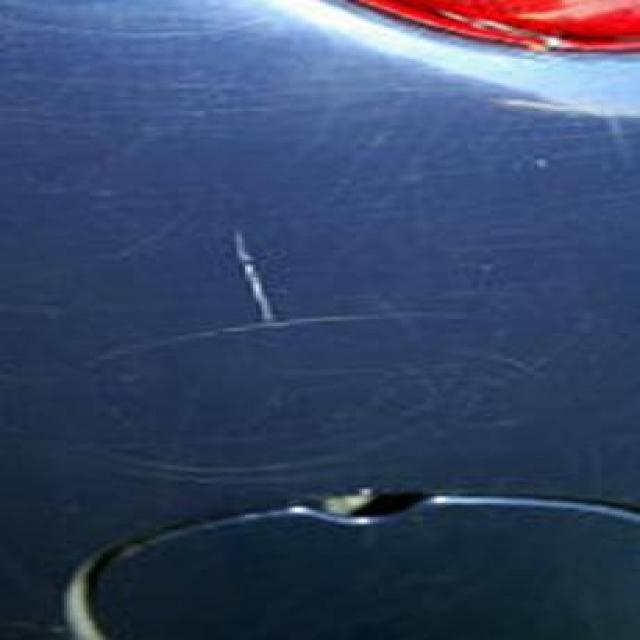scratch: (220, 227, 295, 331)
